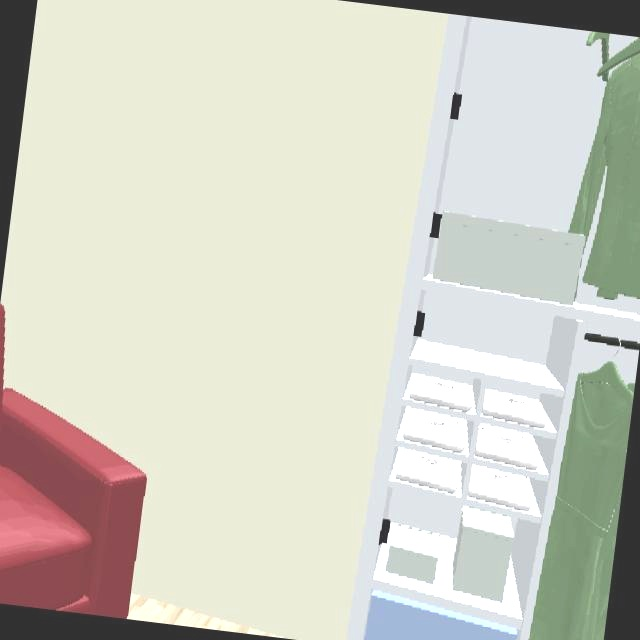sofa: (0, 307, 147, 619)
wardrobe: (345, 13, 640, 640)
